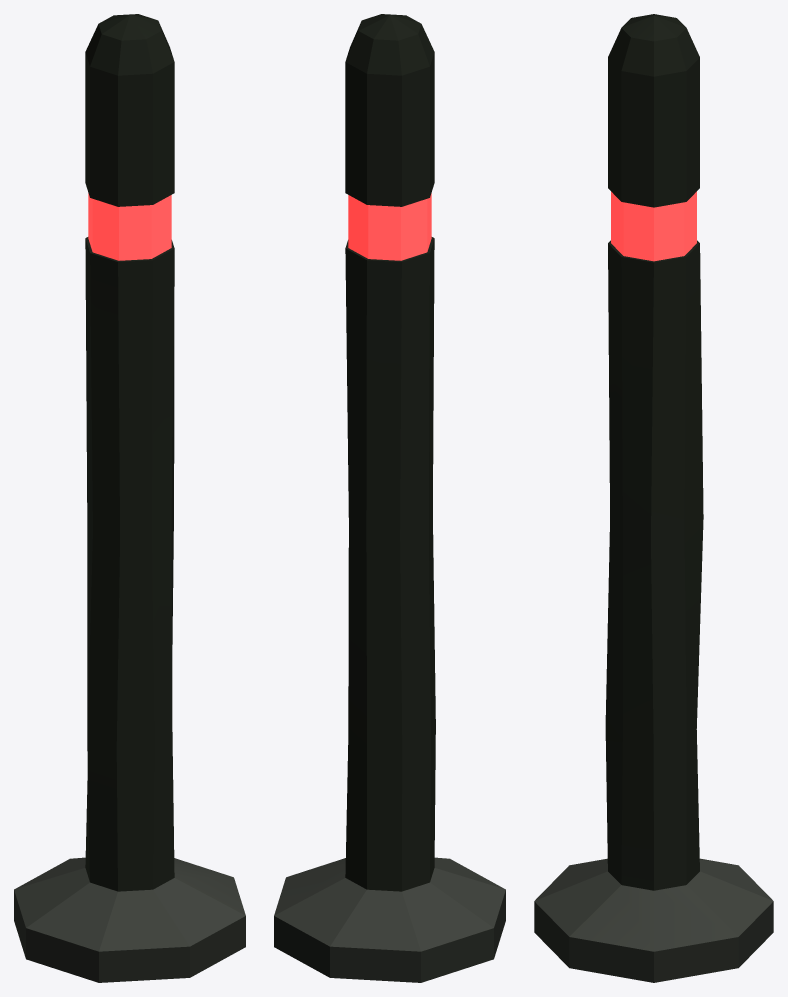
The model's file is Traffic_Post_Red.glb.
3 views of the same model, side by side, from view 1: azimuth 30°, elevation 25°; view 2: azimuth 150°, elevation 25°; view 3: azimuth 270°, elevation 25° (orthographic).
Visible parts, largest first — view 1: TrafficPost_Red; view 2: TrafficPost_Red; view 3: TrafficPost_Red.
Part boxes in pixels (bbox=[...]): TrafficPost_Red: bbox=[14, 14, 245, 982]; TrafficPost_Red: bbox=[274, 14, 505, 982]; TrafficPost_Red: bbox=[534, 14, 773, 982].
Size of what is drawn, in the model's own units: 0.266 by 1.12 by 0.266.
Materials: 1 (1 with a texture image).
